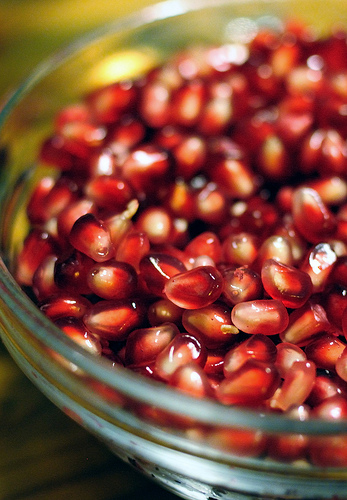pomogranate: (17, 18, 345, 467)
